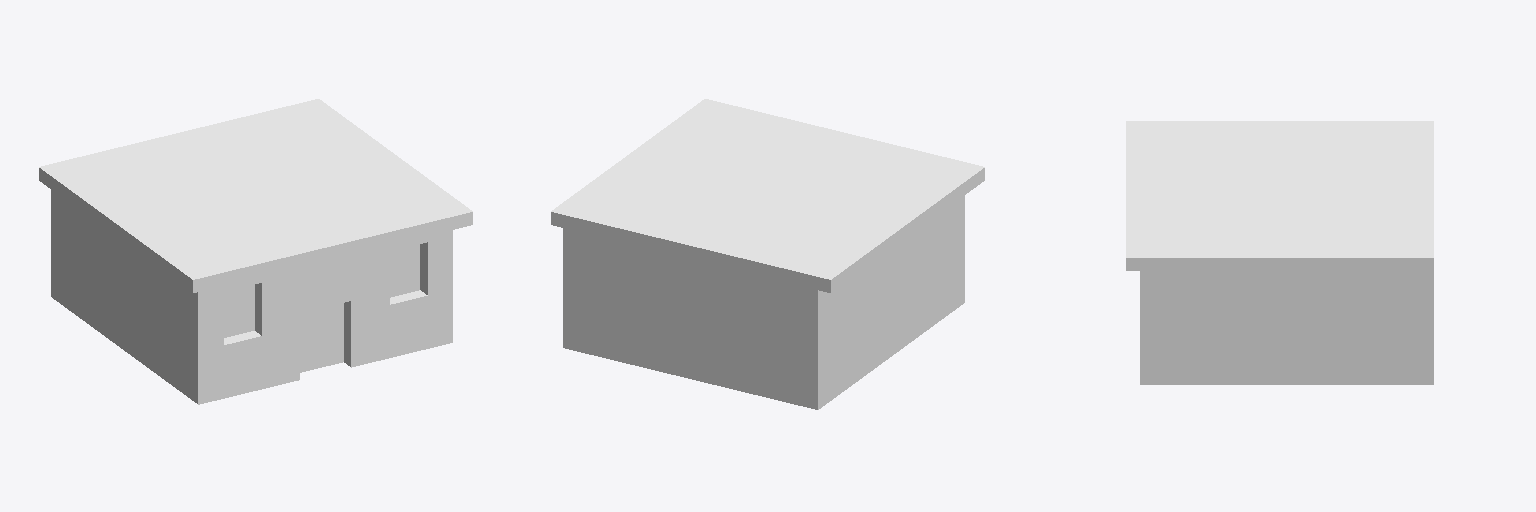
Rendered from testObject.obj.
The picture shows the model from 3 angles: view 1: azimuth 30°, elevation 25°; view 2: azimuth 150°, elevation 25°; view 3: azimuth 270°, elevation 25°; orthographic projection.
Visible parts, largest first — view 1: object 1; view 2: object 1; view 3: object 1.
Part boxes in pixels (x1,y1,x2,y2): object 1: (39,99,472,404); object 1: (551,99,984,409); object 1: (1126,121,1433,384).
Bounding box in the file's own units: 2.2 × 1 × 2.1.